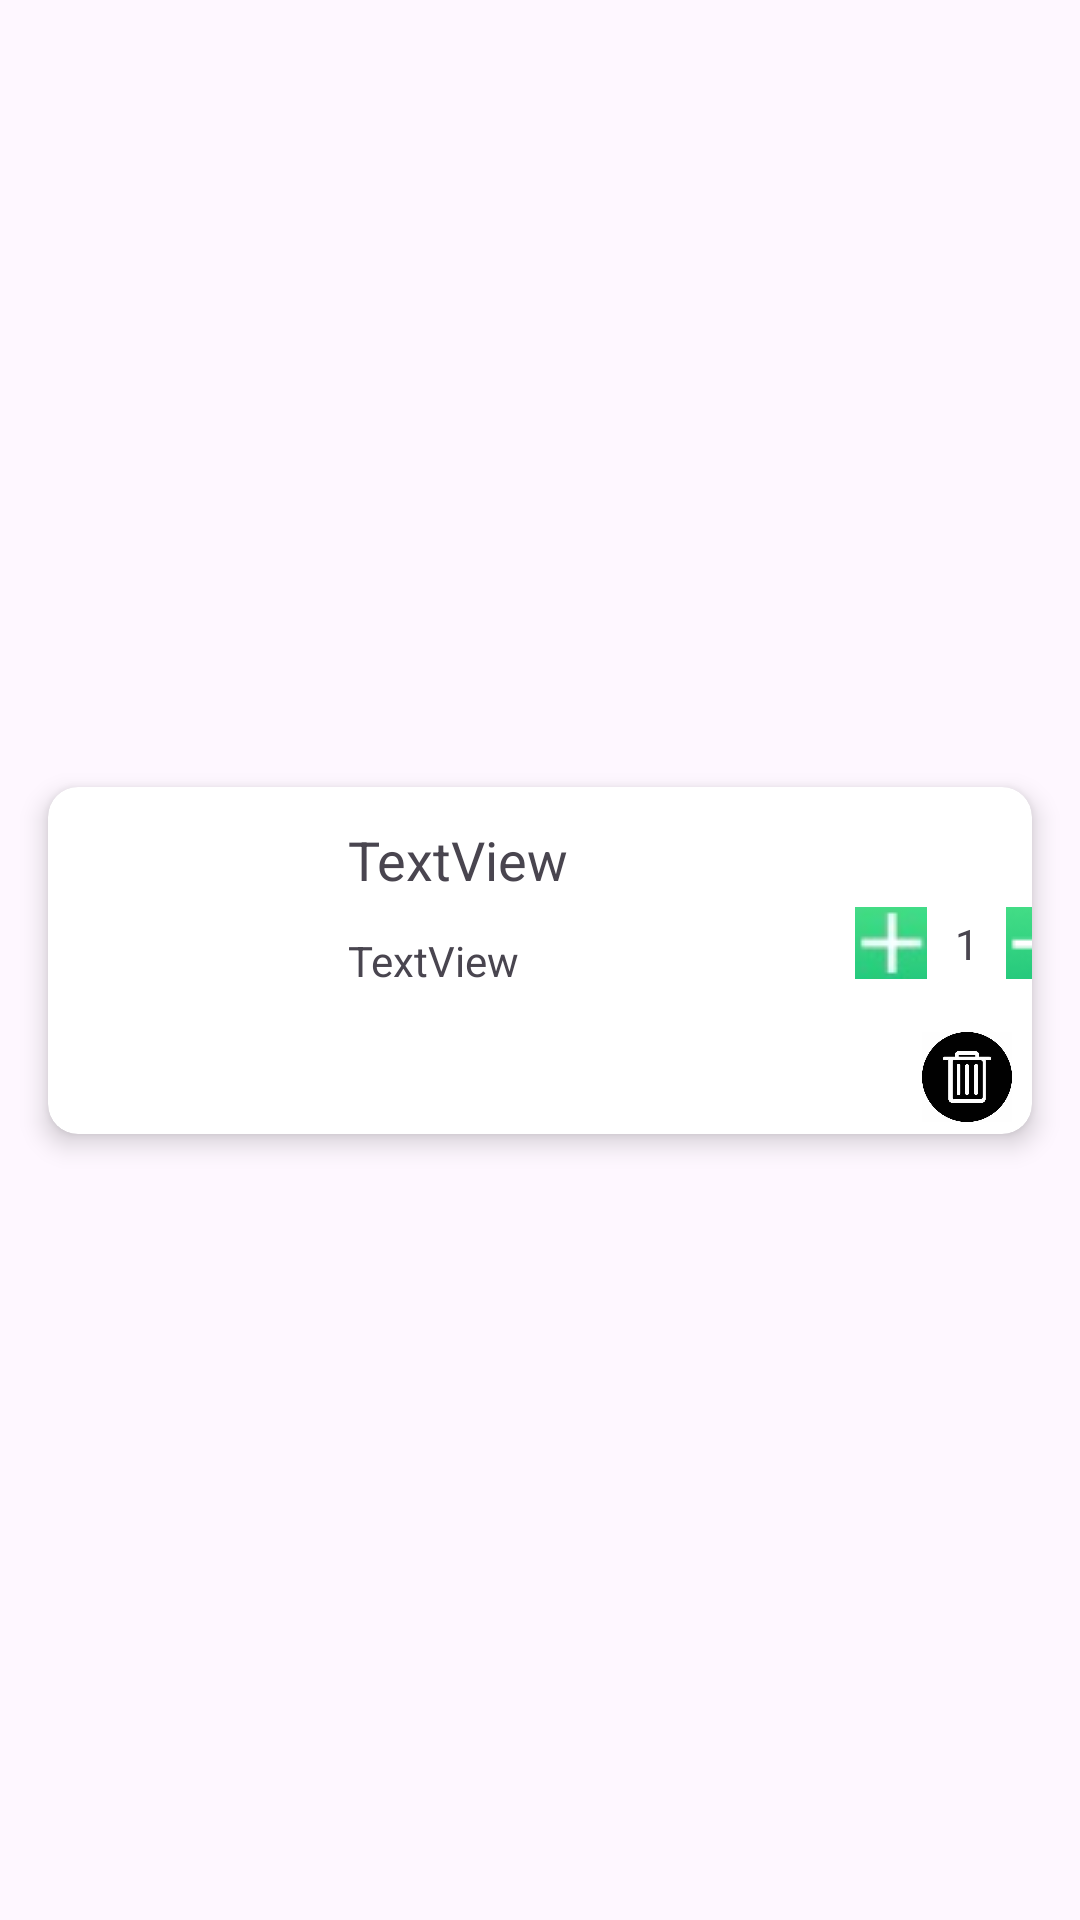

Named icons in this screenshot (1080px×1920px) and their bounding boxes, (x1, y1, x2, y2):
delete: (922, 1032, 1012, 1122)
plus: (855, 907, 927, 979)
